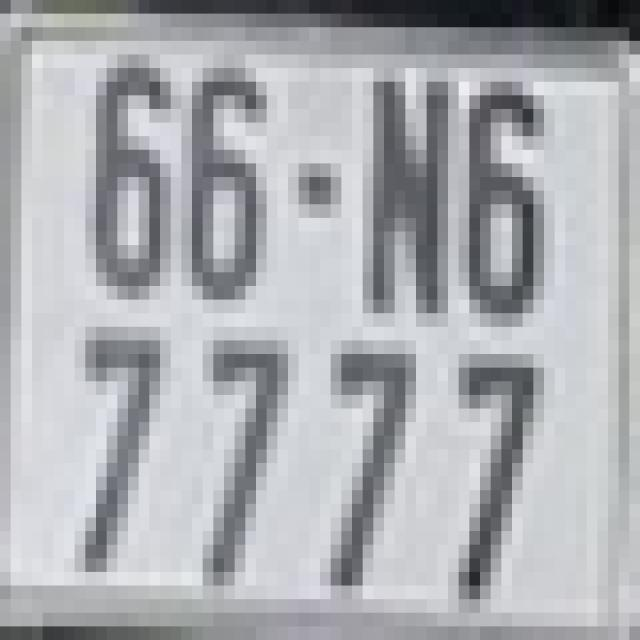6: (85, 54, 171, 286), (181, 68, 267, 300), (458, 82, 544, 314)
7: (202, 340, 288, 586), (74, 327, 160, 572), (331, 340, 416, 586), (458, 354, 534, 599)
N: (363, 68, 448, 313)
